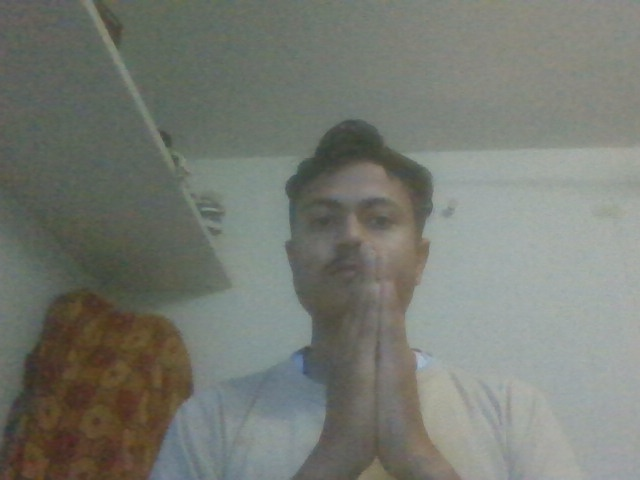Namaste: (330, 248, 439, 470)
